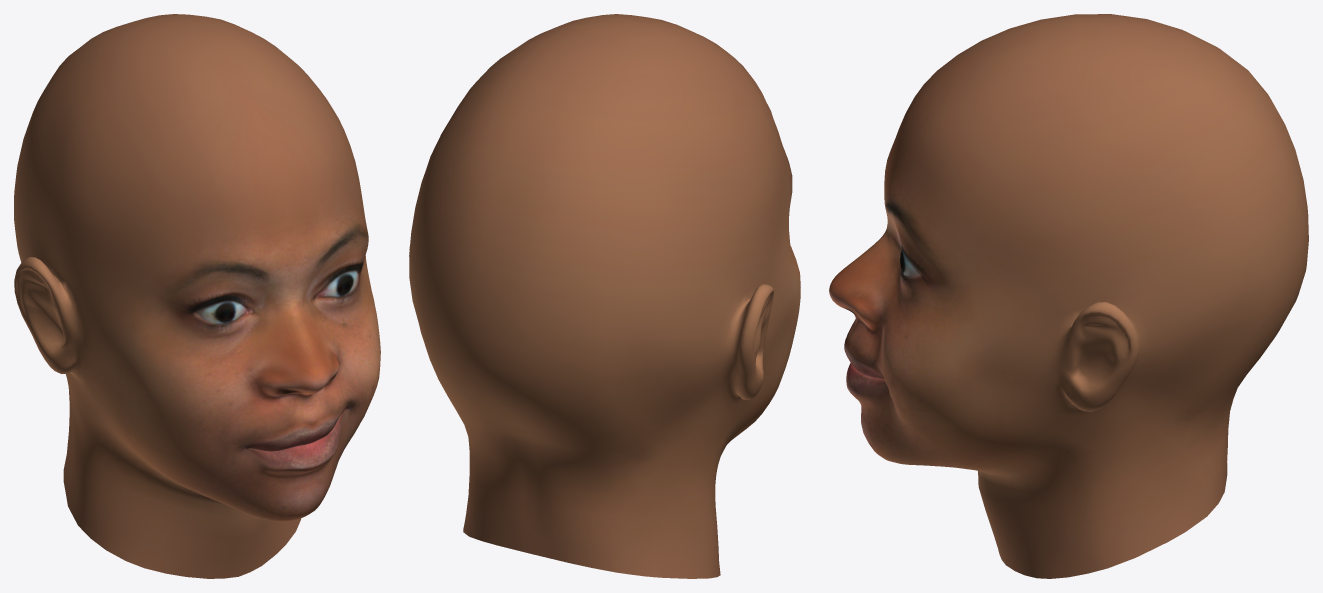
File: v332_obj_ModifierSmirkLeft.obj
The picture shows the model from 3 angles, left to right: view 1: azimuth 30°, elevation 25°; view 2: azimuth 150°, elevation 25°; view 3: azimuth 270°, elevation 25°; orthographic projection. The views are drawn at different scales.
Visible parts, largest first — view 1: HeadHires; view 2: HeadHires; view 3: HeadHires.
Boxes of the visible parts, x1,y1,x2,y2 form: HeadHires: (14, 14, 380, 578); HeadHires: (409, 14, 800, 578); HeadHires: (829, 14, 1308, 578).
Bounding box in the file's own units: 187 × 282 × 233.
